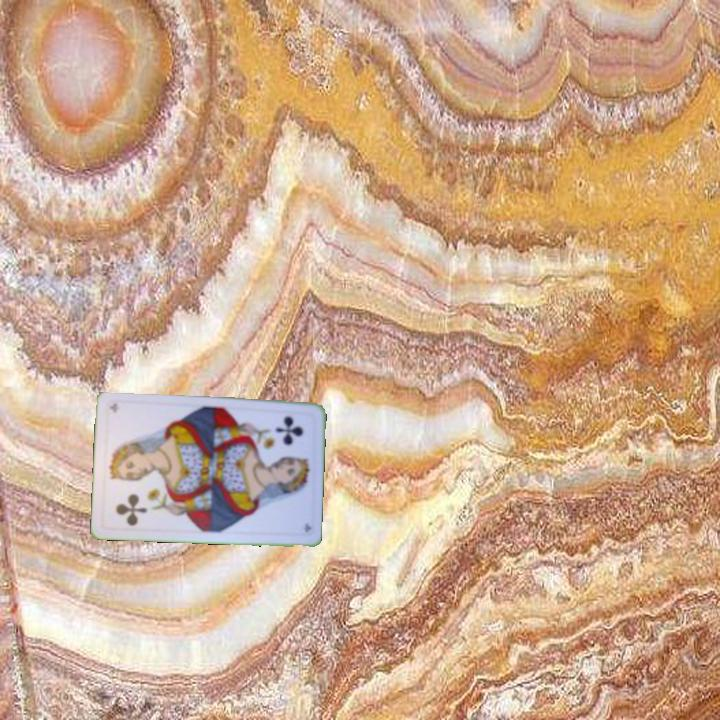c_q.png: (100, 462, 160, 532), (256, 408, 316, 477)
